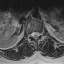CCS_normal: (33, 29, 36, 40)
LFS_normal: (39, 30, 42, 37)
LLS_normal: (36, 29, 39, 38)
RFS_normal: (28, 30, 30, 39)
RLS_normal: (30, 29, 33, 39)
